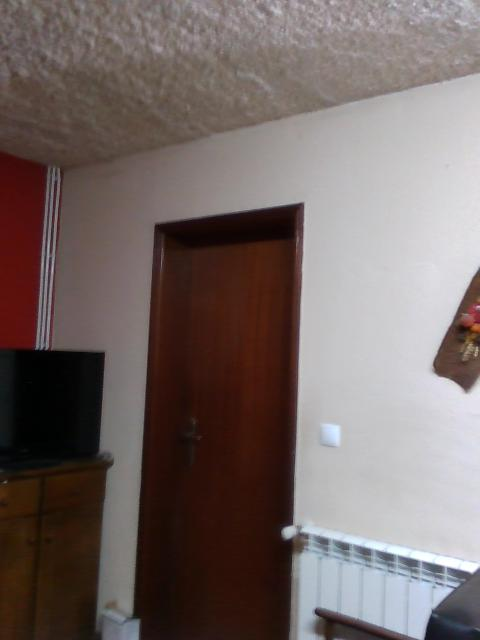door: (160, 234, 289, 640)
